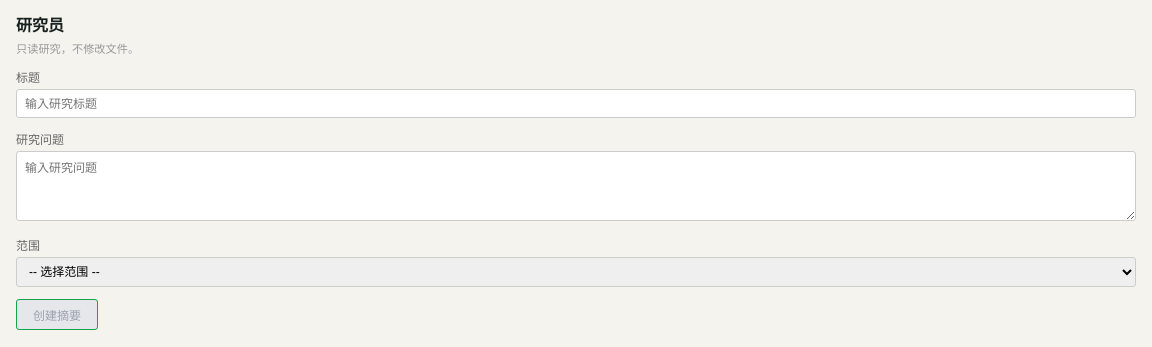
Test: ResearcherPanel › creates brief and shows it
The width and height of the screenshot is (1152, 347).
Type "title" into the field with placeholder "输入研究标题" at (576, 104), box [16,89,1136,118]
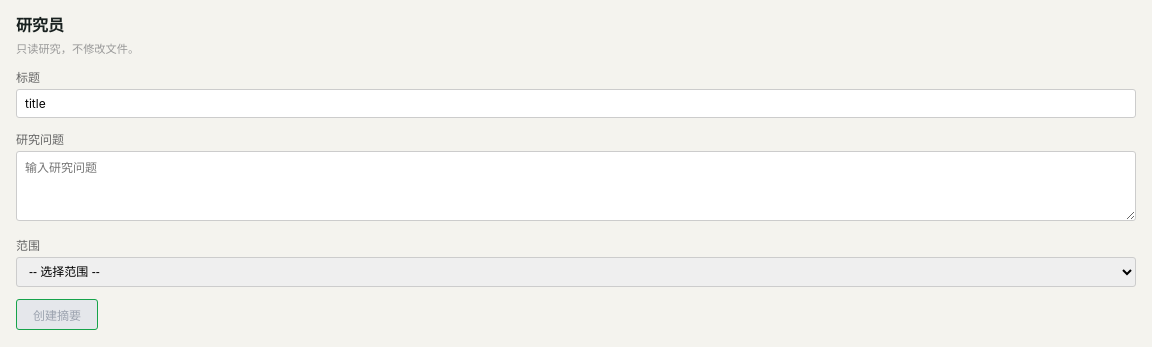
Type "question" into the text box with placeholder "输入研究问题" at (576, 186), box [16,151,1136,221]
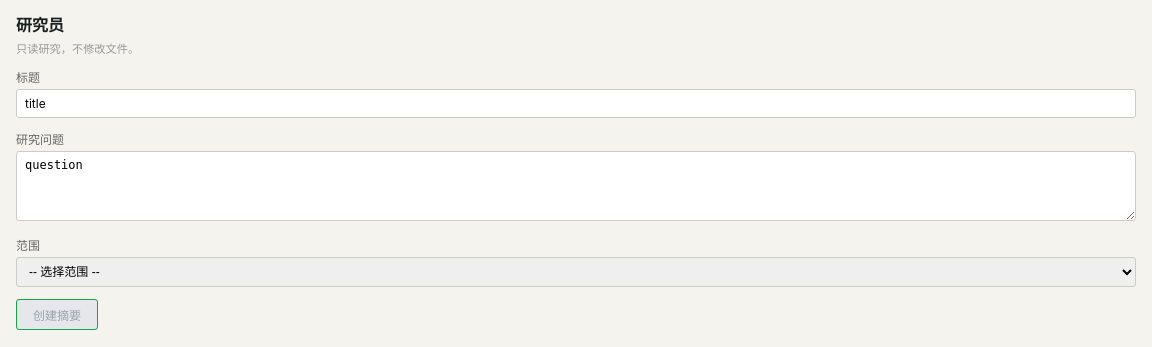
Select "代码地图" in the dropdown at (576, 272), box [16,257,1136,287]
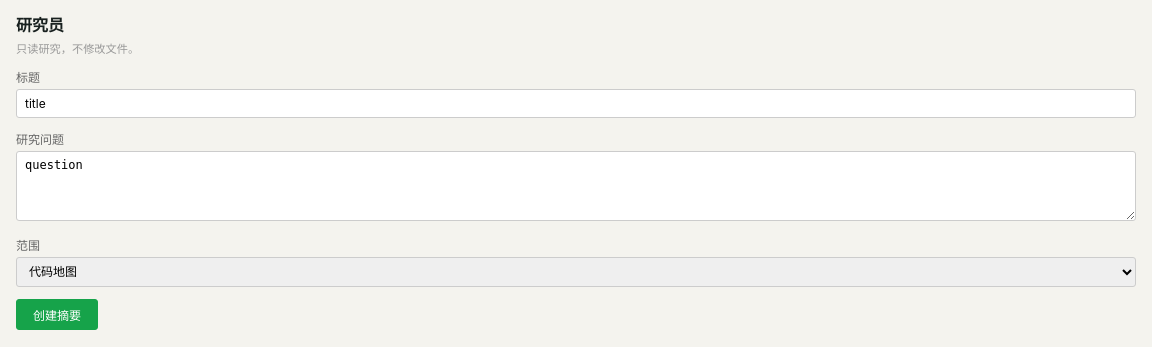
Click the button "创建摘要" at (57, 314), box [16,299,98,330]
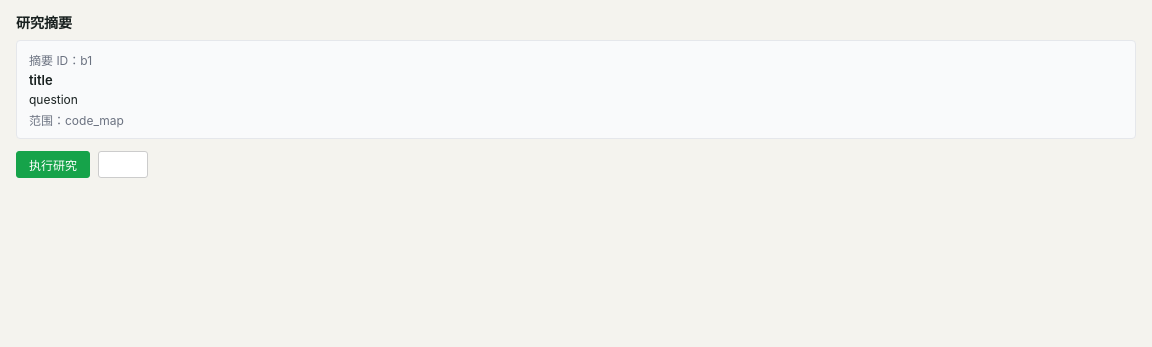
Expected: the heading "研究摘要" is shown, [16,14,72,31]
Expected: the text "title" is shown, [29,72,53,88]
